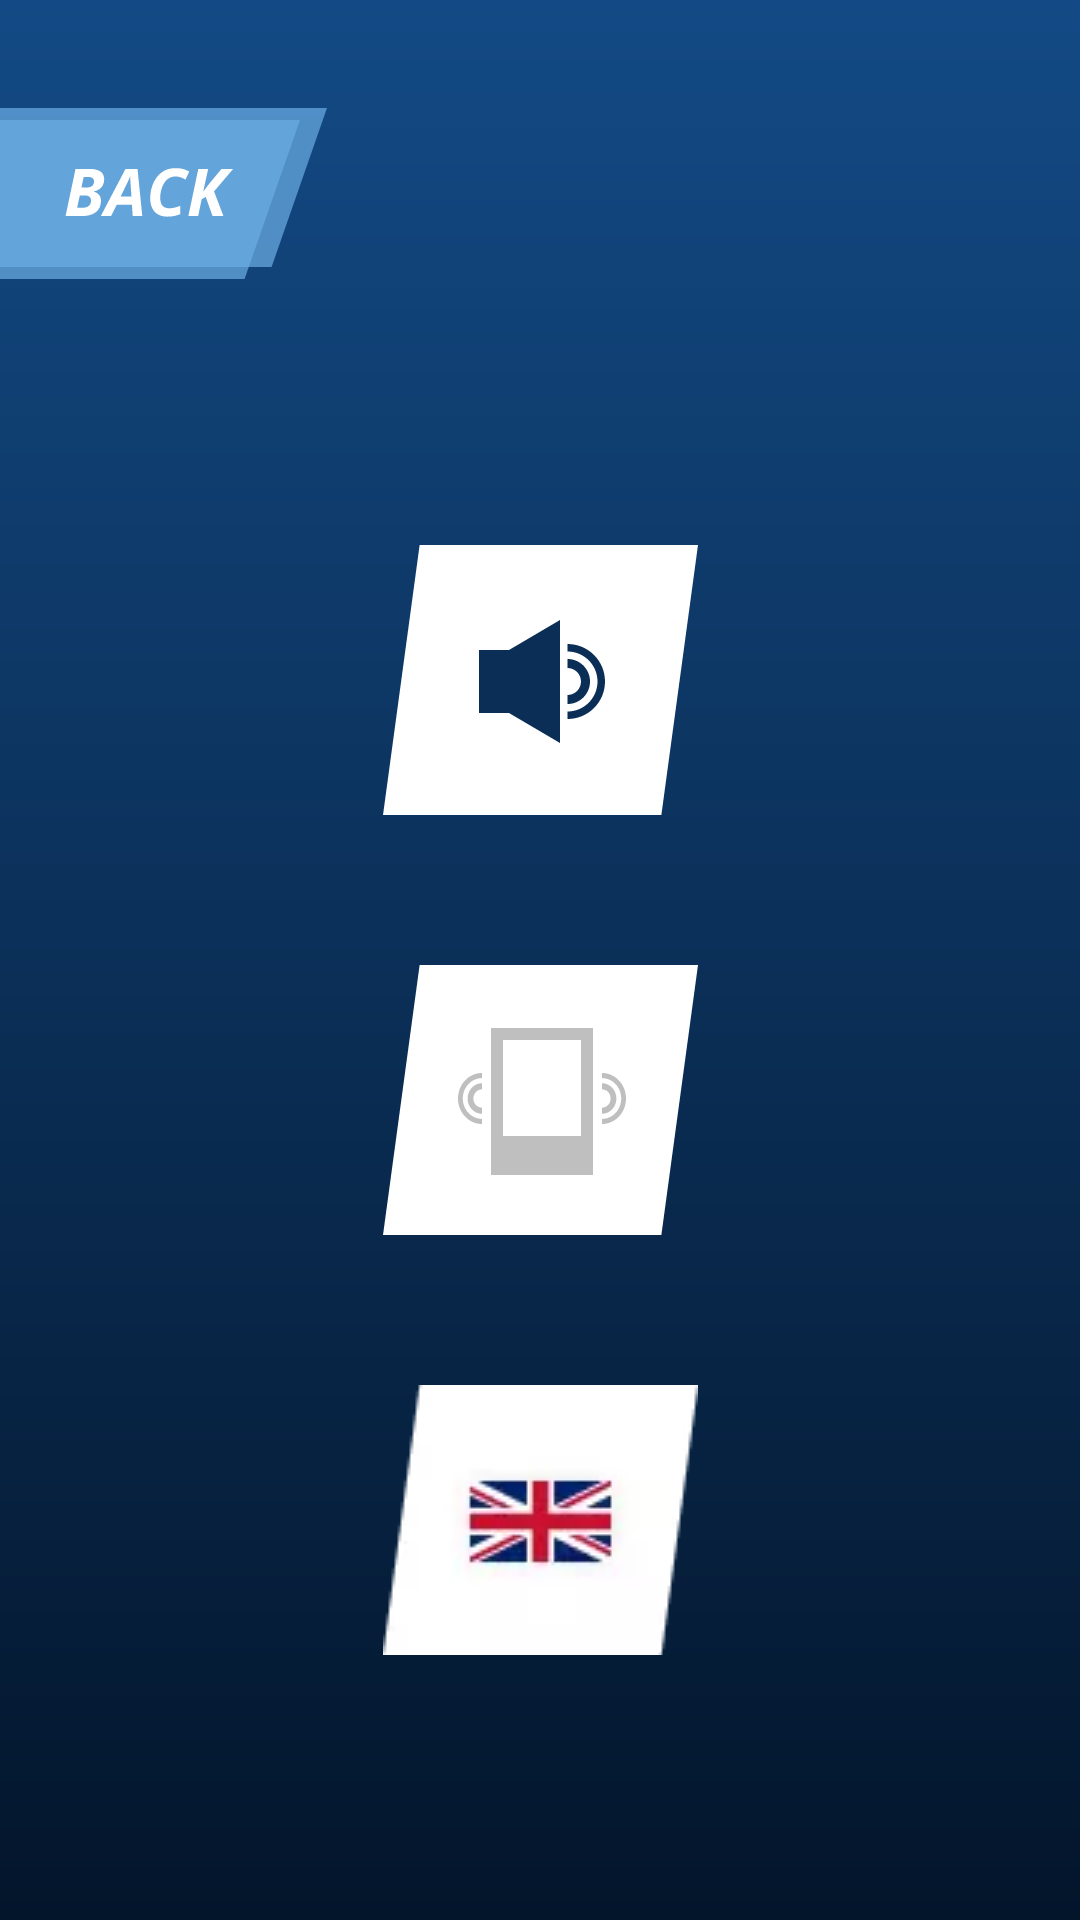

Icon bounding boxes for this 1080px×1920px phone screenshot, format (x1, y1, x2, y2):
phone: (383, 965, 698, 1235)
sound: (383, 545, 698, 815)
uk flag: (383, 1385, 698, 1655)
